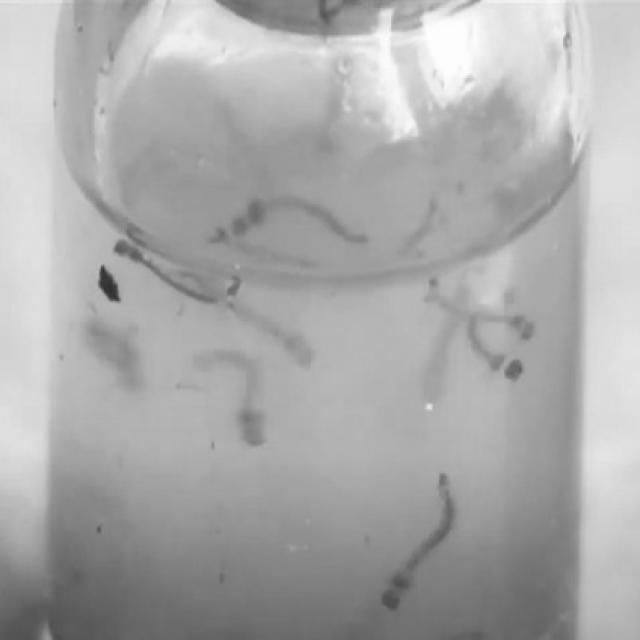larvas: (183, 268, 318, 363), (384, 473, 448, 610), (116, 243, 244, 305), (198, 354, 268, 445), (234, 198, 366, 242), (463, 310, 524, 380), (428, 303, 538, 338)
